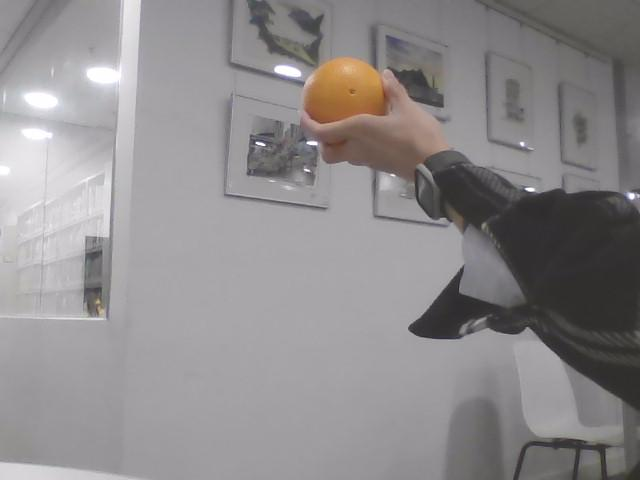orange: (301, 56, 388, 134)
